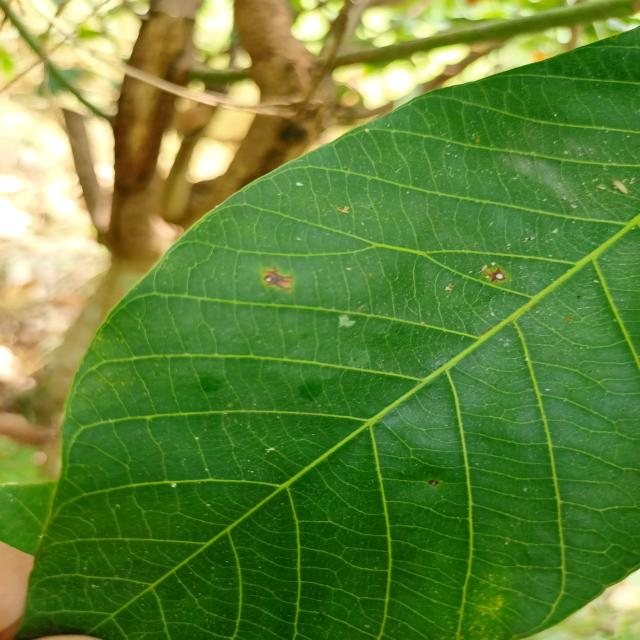Colletotrichum: (494, 272, 505, 281), (264, 275, 274, 283)
Corynespora: (262, 266, 294, 290)
